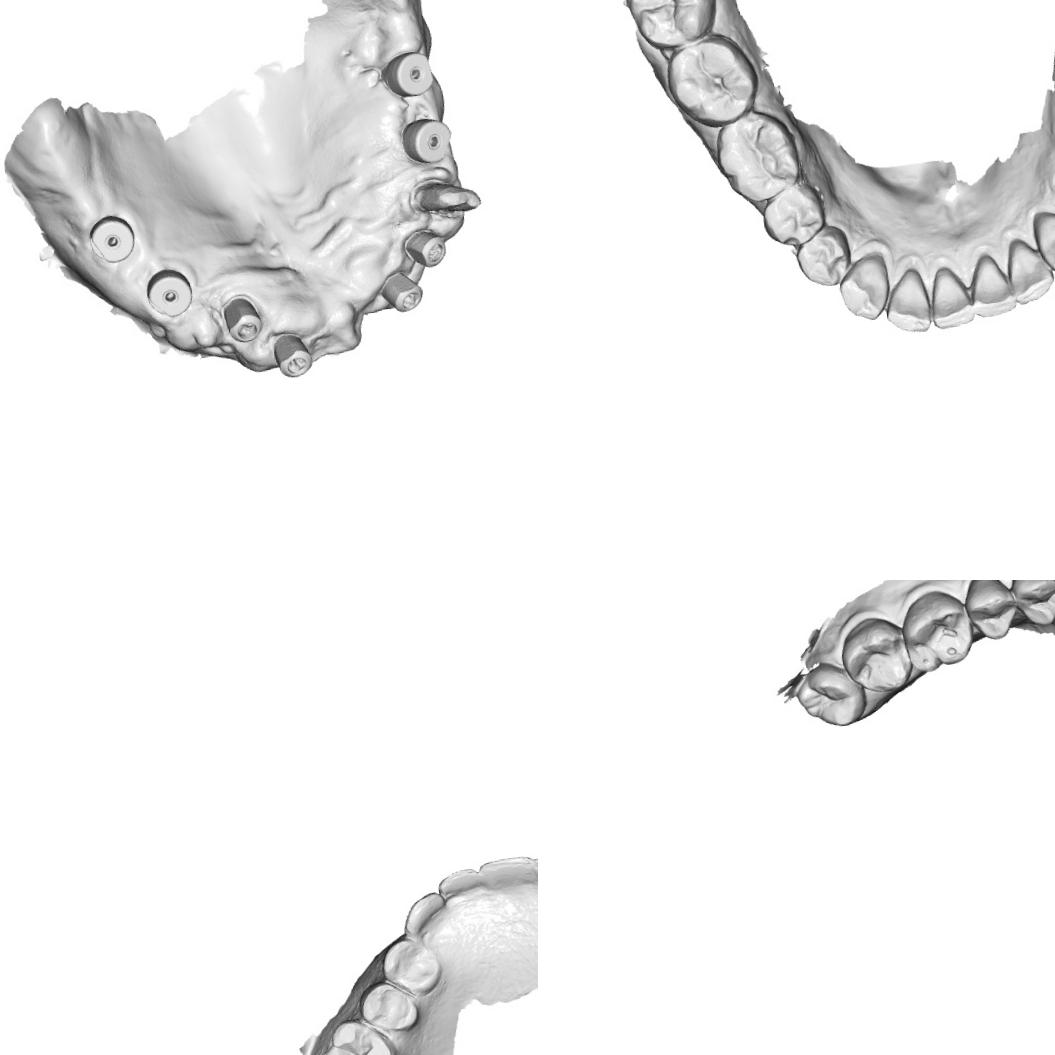canine: (835, 250, 893, 326), (398, 890, 454, 938), (1030, 207, 1055, 281)
crown: (411, 173, 483, 220)
implant: (398, 114, 456, 168), (142, 264, 196, 322), (380, 47, 436, 101), (86, 211, 138, 267), (376, 266, 426, 316), (219, 293, 266, 346), (399, 224, 449, 270), (270, 329, 314, 380)
incisor: (880, 266, 938, 338), (963, 251, 1018, 322), (1002, 236, 1055, 308), (924, 266, 972, 332), (473, 854, 535, 897), (436, 864, 484, 912)
molar: (663, 28, 763, 131), (708, 106, 808, 209), (896, 584, 978, 676), (834, 613, 916, 699), (791, 656, 867, 733), (619, 0, 723, 52), (317, 1015, 400, 1055)
premolar: (757, 181, 829, 251), (355, 973, 423, 1040), (792, 225, 854, 291), (958, 580, 1021, 644), (378, 932, 440, 997), (1005, 580, 1055, 631)
